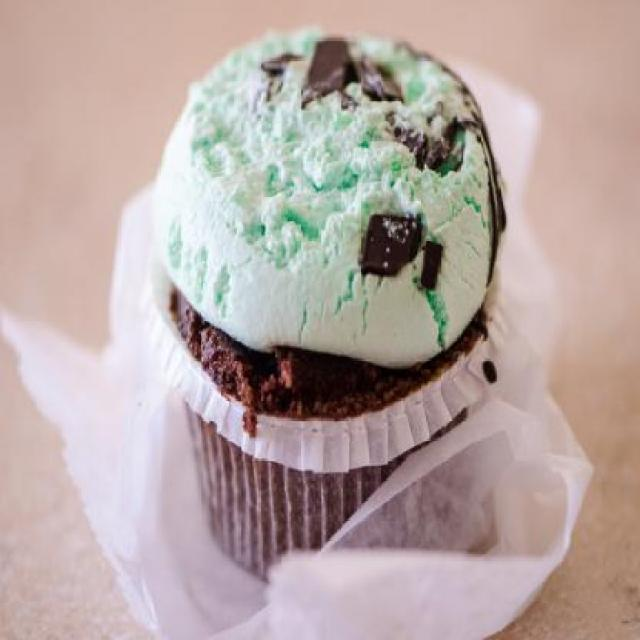Cookie: (138, 20, 512, 582)
